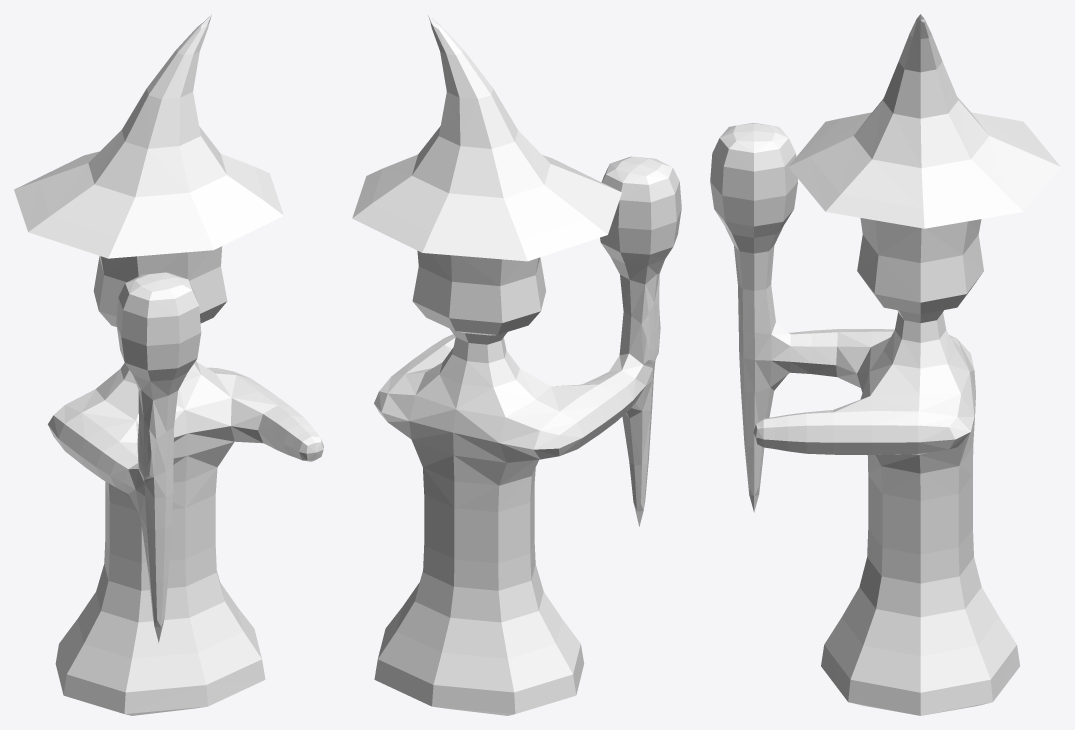
Rendered from wwitch.obj.
The picture shows the model from 3 angles, left to right: view 1: azimuth 30°, elevation 25°; view 2: azimuth 150°, elevation 25°; view 3: azimuth 270°, elevation 25°; orthographic projection. The views are drawn at different scales.
Visible parts, largest first — view 1: Cube; view 2: Cube; view 3: Cube.
Boxes of the visible parts, x1,y1,x2,y2 form: Cube: (14, 14, 323, 715); Cube: (352, 14, 681, 715); Cube: (710, 14, 1060, 715).
Bounding box in the file's own units: 5.1 × 13.34 × 6.09.
Materials: 1 (1 with a texture image).
